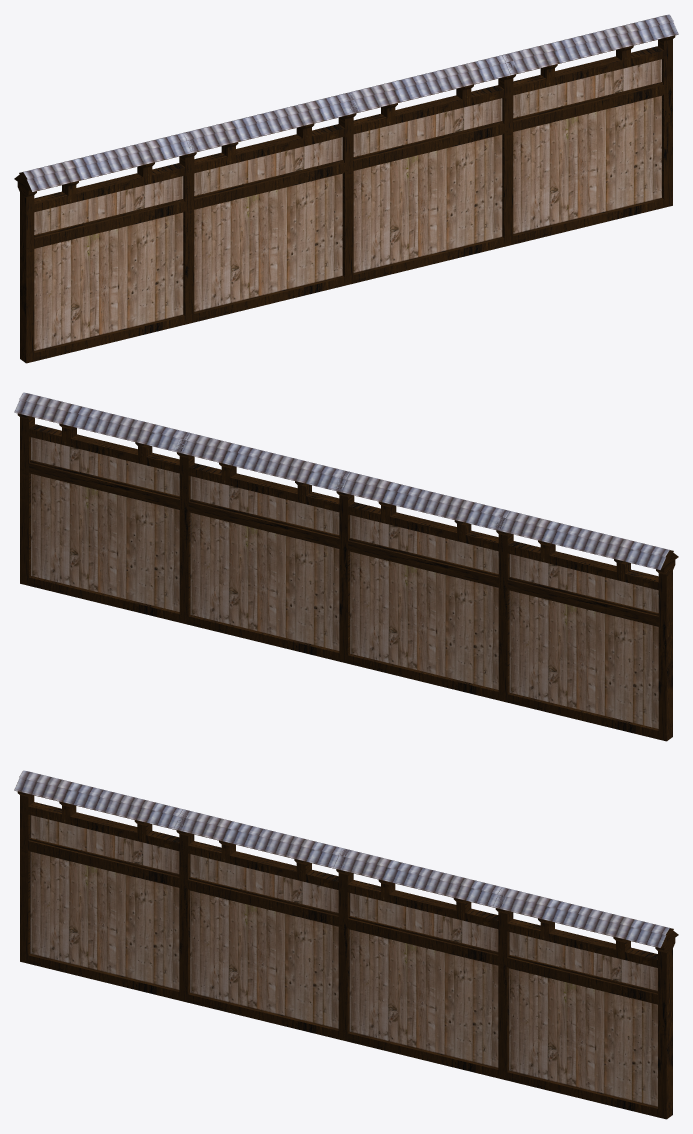
The model's file is NNJ0510052.fbx.
The picture shows the model from 3 angles, top to bottom: view 1: azimuth 30°, elevation 25°; view 2: azimuth 150°, elevation 25°; view 3: azimuth 330°, elevation 25°; orthographic projection.
Parts seen in each view (by area): view 1: smNNJ0510052; view 2: smNNJ0510052; view 3: smNNJ0510052.
Boxes of the visible parts, left/top/right/bottom form: smNNJ0510052: left=14, top=14, right=678, bottom=363; smNNJ0510052: left=14, top=392, right=678, bottom=741; smNNJ0510052: left=14, top=770, right=678, bottom=1119.
Bounding box in the file's own units: 1391 × 389 × 68.57.
1 material, 1 textured.
